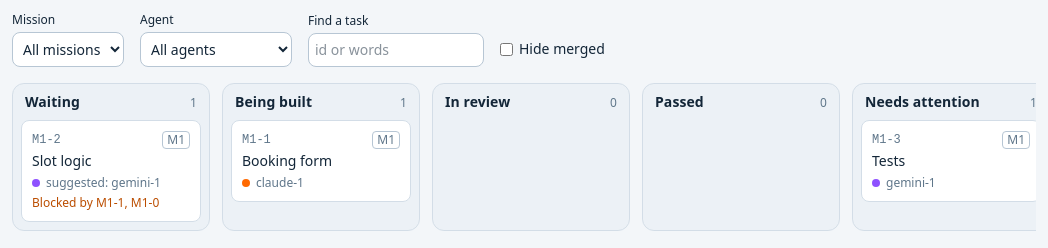
Test: the board › says when the filters leave nothing, and how to get everything back
This screenshot has width=1048, height=248.
Type "zzzz" into the field labelled "Find a task" at {"x": 396, "y": 50}, box [308, 33, 484, 67]
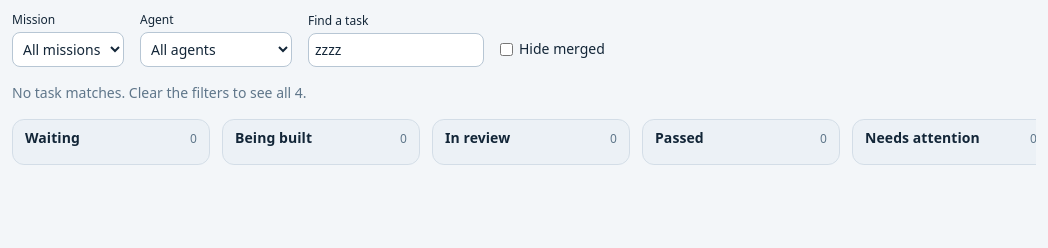
Now the text "No task matches. Clear the filters to see all 4." is shown, box [12, 83, 307, 102]
